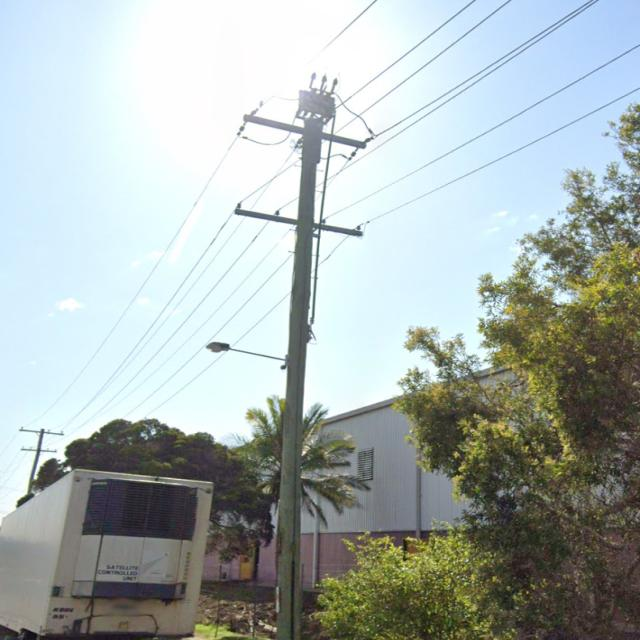HV-switch: (296, 71, 339, 123)
HV-transmission: (238, 113, 372, 158), (17, 426, 65, 454)
crossarm: (244, 114, 366, 150), (232, 207, 364, 238), (19, 428, 64, 436), (21, 449, 57, 453)
streetlight: (206, 342, 290, 363)
timber-pole: (274, 117, 325, 640), (27, 427, 45, 494)
